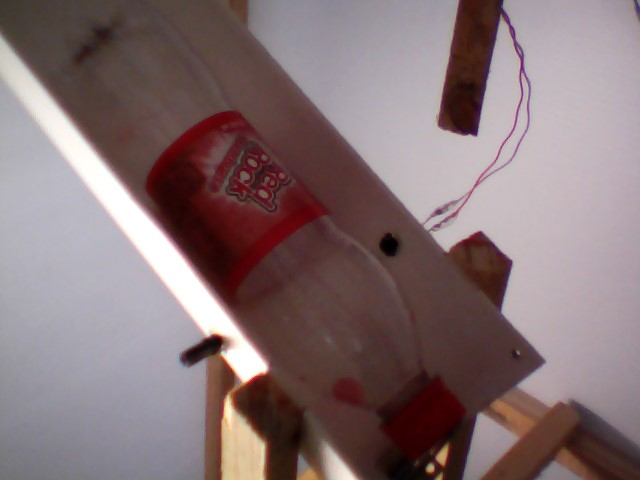plastico: (24, 1, 475, 467)
